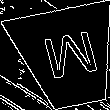M_S: (35, 28, 100, 88)
